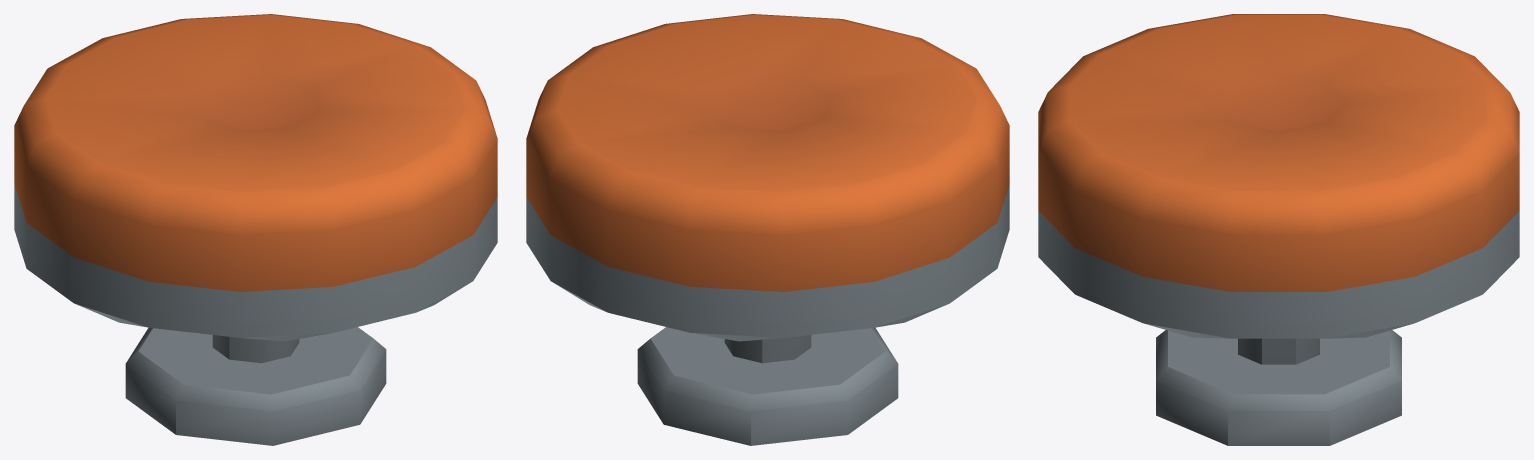
File: kay-chair_stool.glb
The picture shows the model from 3 angles, left to right: view 1: azimuth 30°, elevation 25°; view 2: azimuth 150°, elevation 25°; view 3: azimuth 270°, elevation 25°; orthographic projection.
Visible parts, largest first — view 1: chair_stool; view 2: chair_stool; view 3: chair_stool.
Part boxes in pixels (x1,y1,x2,y2): chair_stool: (14, 14, 497, 445); chair_stool: (526, 14, 1009, 445); chair_stool: (1038, 14, 1519, 445).
Size of the model in its own units: 0.85 by 0.5667 by 0.85.
1 material, 1 textured.
